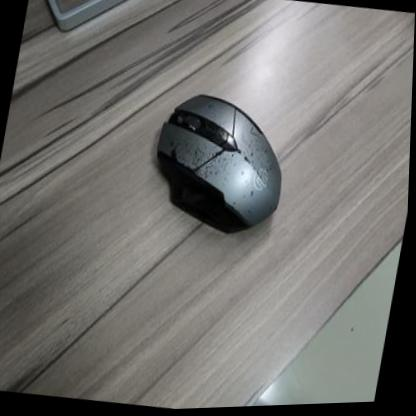mouserotation: (144, 83, 299, 243)
